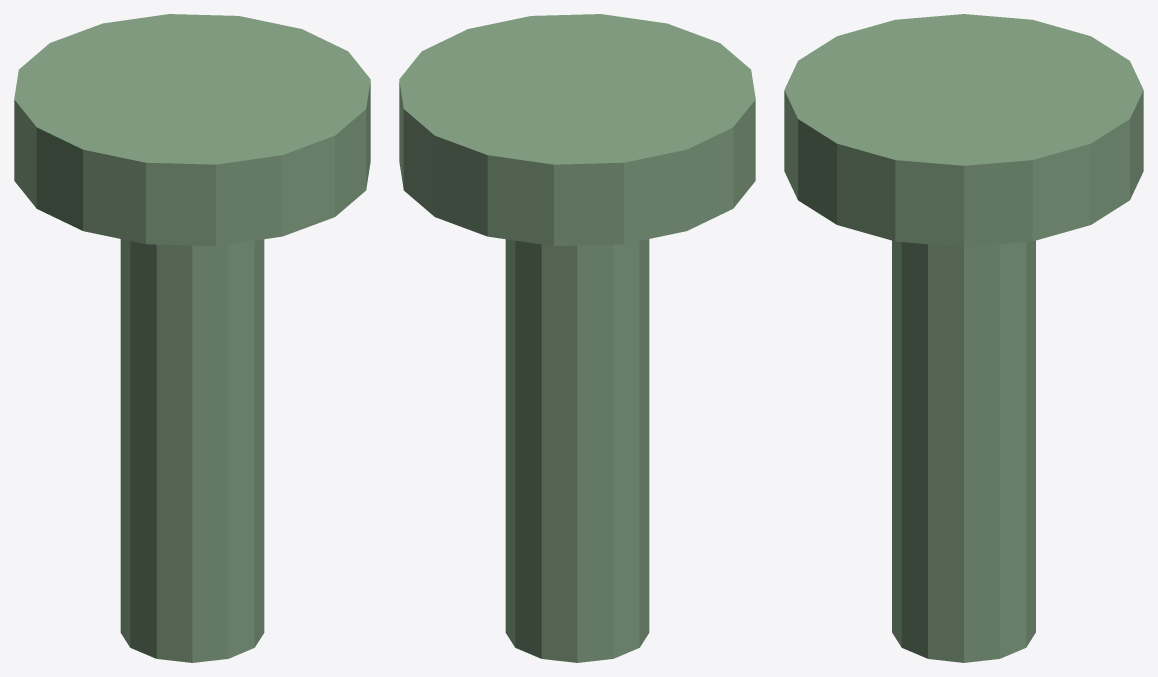
Rendered from zone-5.glb.
The picture shows the model from 3 angles, left to right: view 1: azimuth 30°, elevation 25°; view 2: azimuth 150°, elevation 25°; view 3: azimuth 270°, elevation 25°; orthographic projection.
Visible parts, largest first — view 1: zone-5; view 2: zone-5; view 3: zone-5.
Part boxes in pixels (x1,y1,x2,y2): zone-5: (14, 14, 370, 662); zone-5: (399, 14, 755, 662); zone-5: (784, 14, 1143, 662).
Size of the model in its own units: 0.6 by 1 by 0.6.
